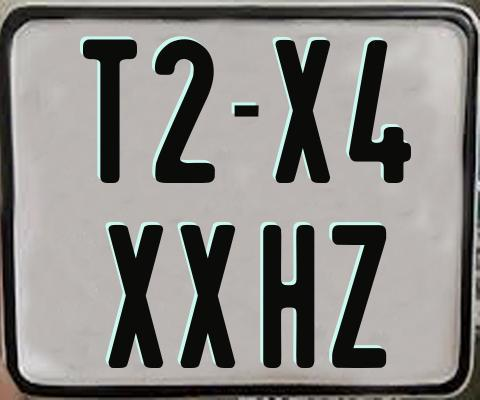2: (153, 39, 216, 188)
4: (346, 38, 410, 185)
H: (260, 223, 316, 368)
T: (81, 39, 141, 187)
X: (276, 39, 336, 184), (108, 225, 167, 372), (179, 222, 234, 368)
Z: (329, 223, 388, 366)
